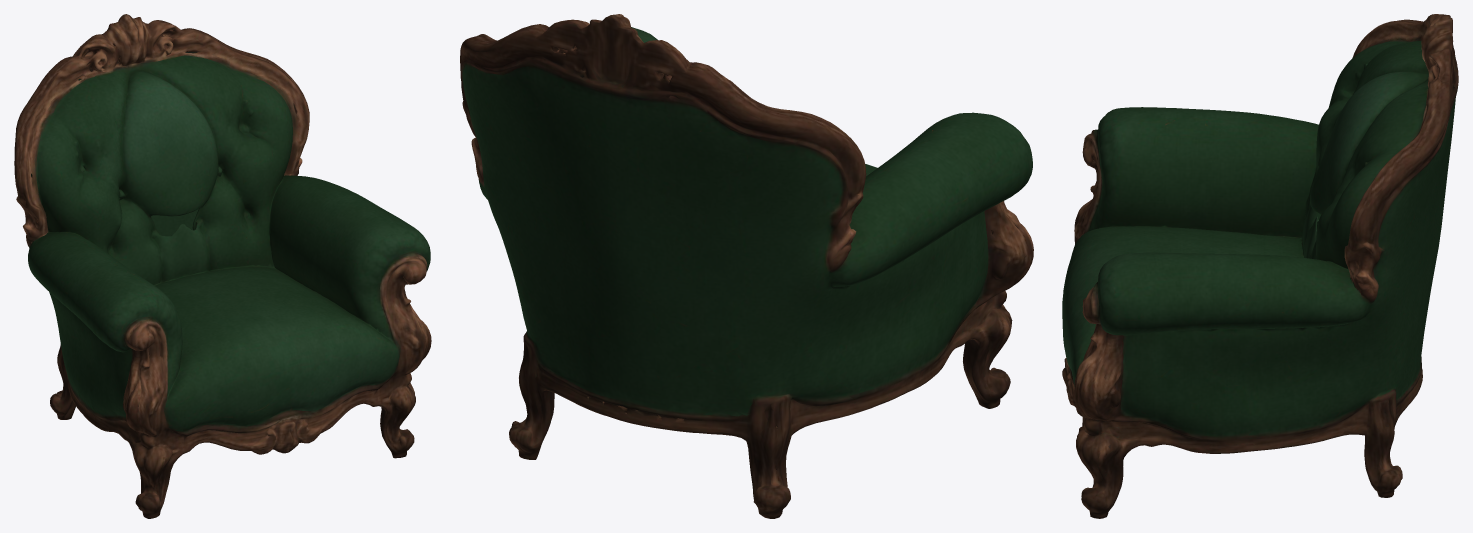
The model's file is generation_armchair_1.glb.
3 renders of one model, left to right at view 1: azimuth 30°, elevation 25°; view 2: azimuth 150°, elevation 25°; view 3: azimuth 270°, elevation 25°, orthographic. The views are drawn at different scales.
Visible parts, largest first — view 1: geometry_0; view 2: geometry_0; view 3: geometry_0.
Boxes of the visible parts, x1=… form: geometry_0: x1=14, y1=14, x2=431, y2=518; geometry_0: x1=460, y1=14, x2=1033, y2=518; geometry_0: x1=1062, y1=14, x2=1458, y2=518.
Size of the model in its own units: 0.9497 by 1 by 0.8445.
1 material, 1 textured.
